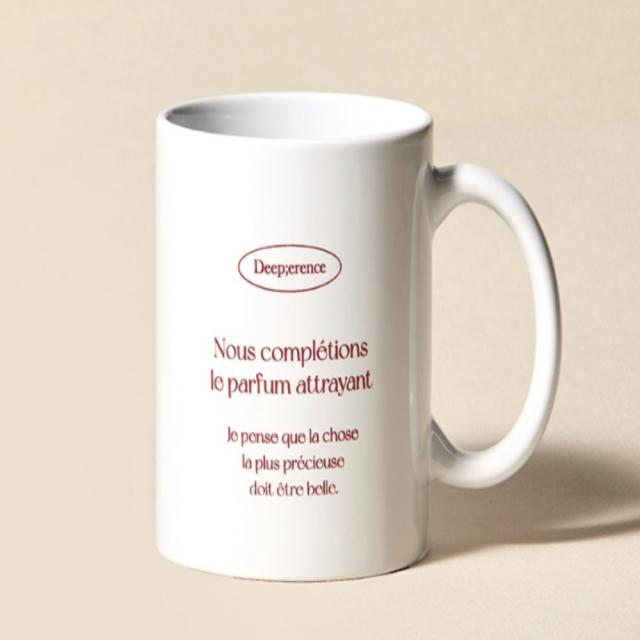recyclable: (145, 78, 572, 588)
